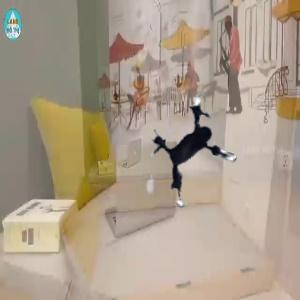drone: (134, 87, 266, 219)
